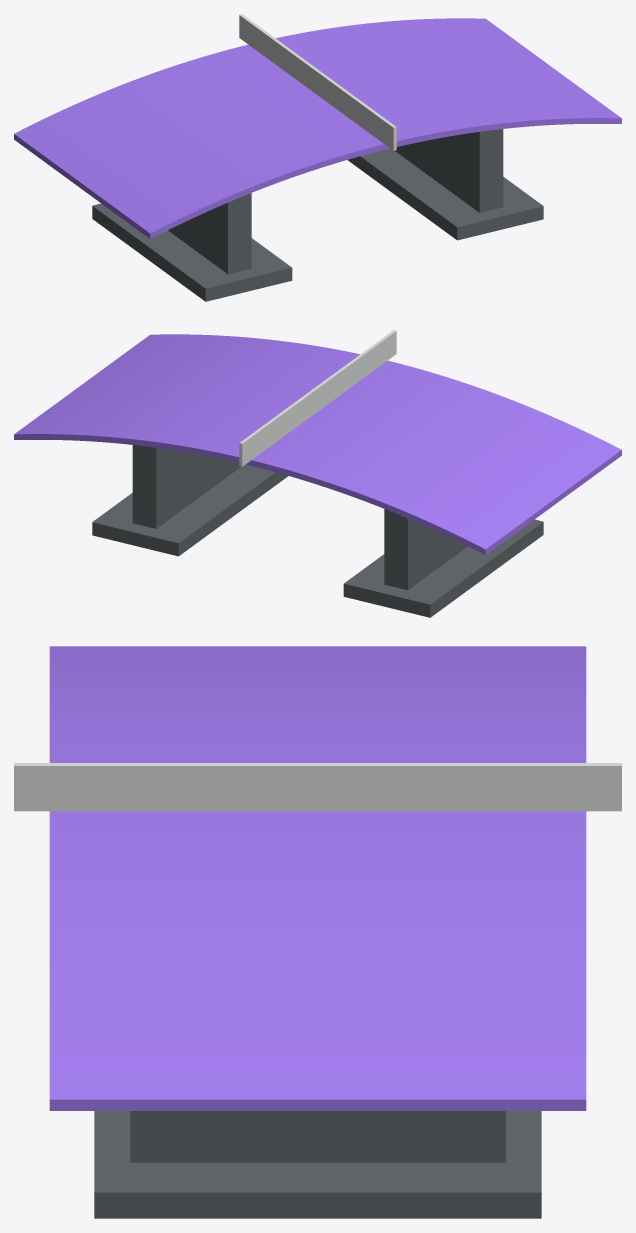
File: teq-table.glb
3 renders of one model, top to bottom at view 1: azimuth 30°, elevation 25°; view 2: azimuth 150°, elevation 25°; view 3: azimuth 270°, elevation 25°, orthographic. The views are drawn at different scales.
Parts seen in each view (by area): view 1: teq-table-top, teq-foot-0.8, teq-foot--0.8, teq-support-0.8, teq-net, teq-support--0.8; view 2: teq-table-top, teq-foot-0.8, teq-foot--0.8, teq-support-0.8, teq-net, teq-support--0.8; view 3: teq-table-top, teq-net, teq-foot-0.8, teq-support-0.8.
Part boxes in pixels (x1,y1,x2,y2): teq-table-top: (14, 18, 621, 238); teq-foot-0.8: (348, 148, 543, 240); teq-foot--0.8: (92, 203, 292, 301); teq-support-0.8: (395, 129, 503, 212); teq-net: (239, 14, 396, 150); teq-support--0.8: (168, 193, 251, 274); teq-table-top: (14, 334, 621, 554); teq-foot-0.8: (92, 464, 287, 556); teq-foot--0.8: (343, 519, 543, 617); teq-support-0.8: (132, 445, 240, 528); teq-net: (239, 330, 396, 466); teq-support--0.8: (384, 509, 467, 590); teq-table-top: (49, 646, 586, 1110); teq-net: (14, 763, 621, 811); teq-foot-0.8: (94, 1111, 541, 1218); teq-support-0.8: (130, 1111, 505, 1162).
Size of the model in its own units: 3 by 0.9 by 1.7.
